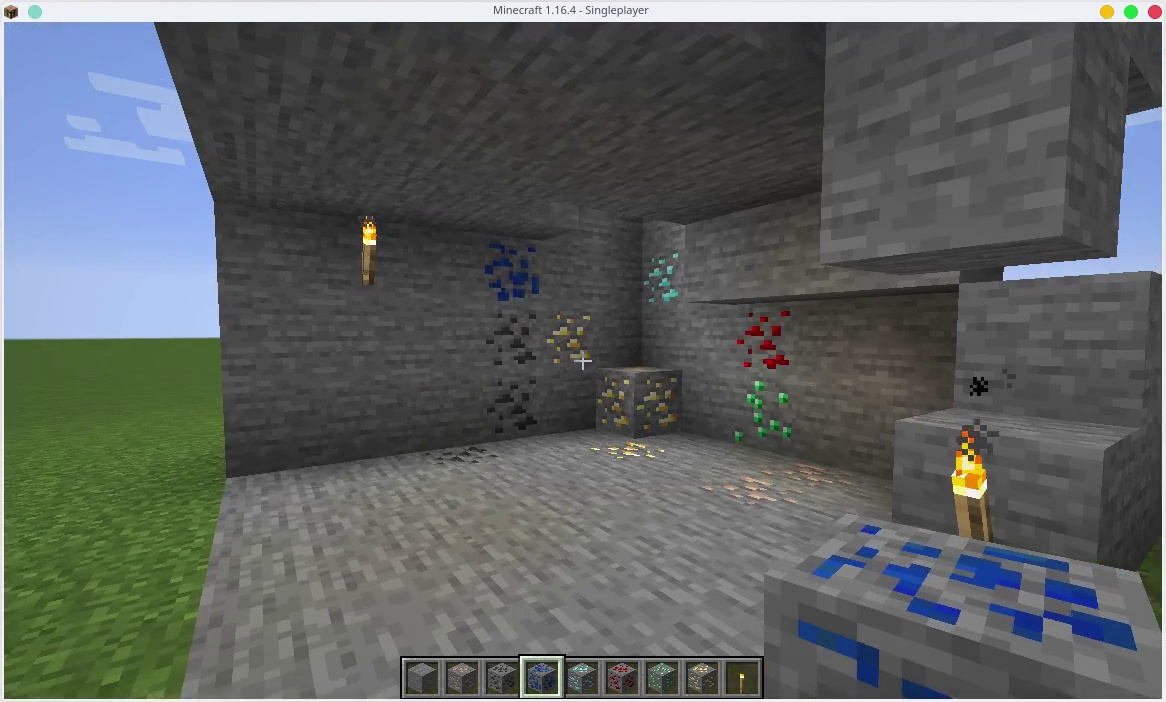gold: (602, 369, 676, 439), (541, 309, 591, 365), (582, 438, 675, 465), (685, 661, 724, 695)
